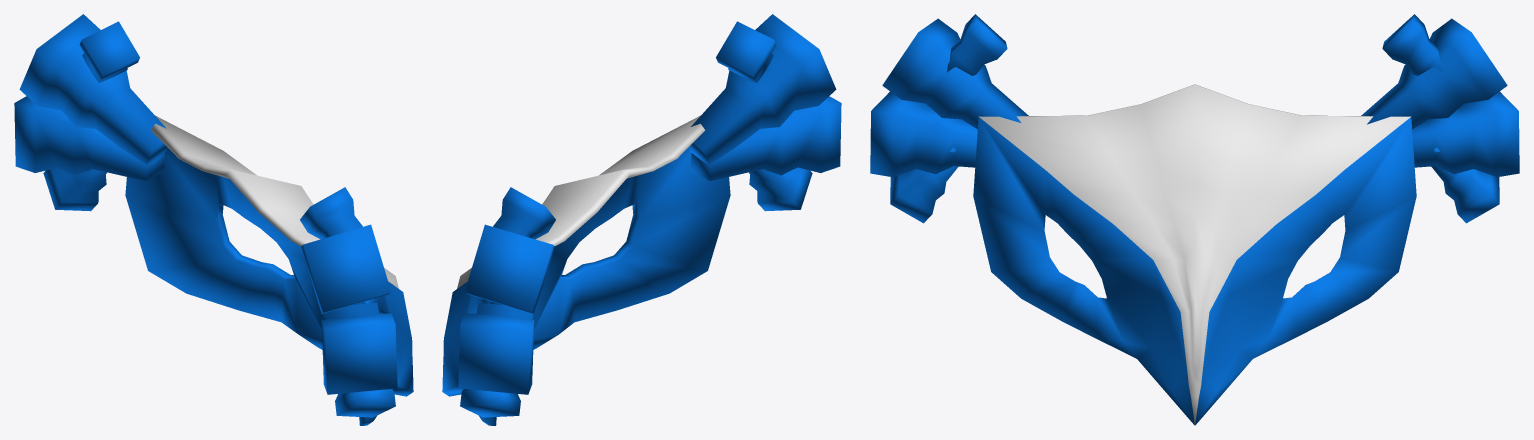
File: 雹灾面具.fbx
3 views of the same model, side by side, from view 1: azimuth 30°, elevation 25°; view 2: azimuth 150°, elevation 25°; view 3: azimuth 270°, elevation 25° (orthographic). The views are drawn at different scales.
Visible parts, largest first — view 1: 雹灾面具; view 2: 雹灾面具; view 3: 雹灾面具.
Boxes of the visible parts, x1,y1,x2,y2 form: 雹灾面具: (14, 14, 413, 425); 雹灾面具: (442, 14, 841, 425); 雹灾面具: (870, 14, 1519, 425).
Bounding box in the file's own units: 71.18 × 93.6 × 171.
